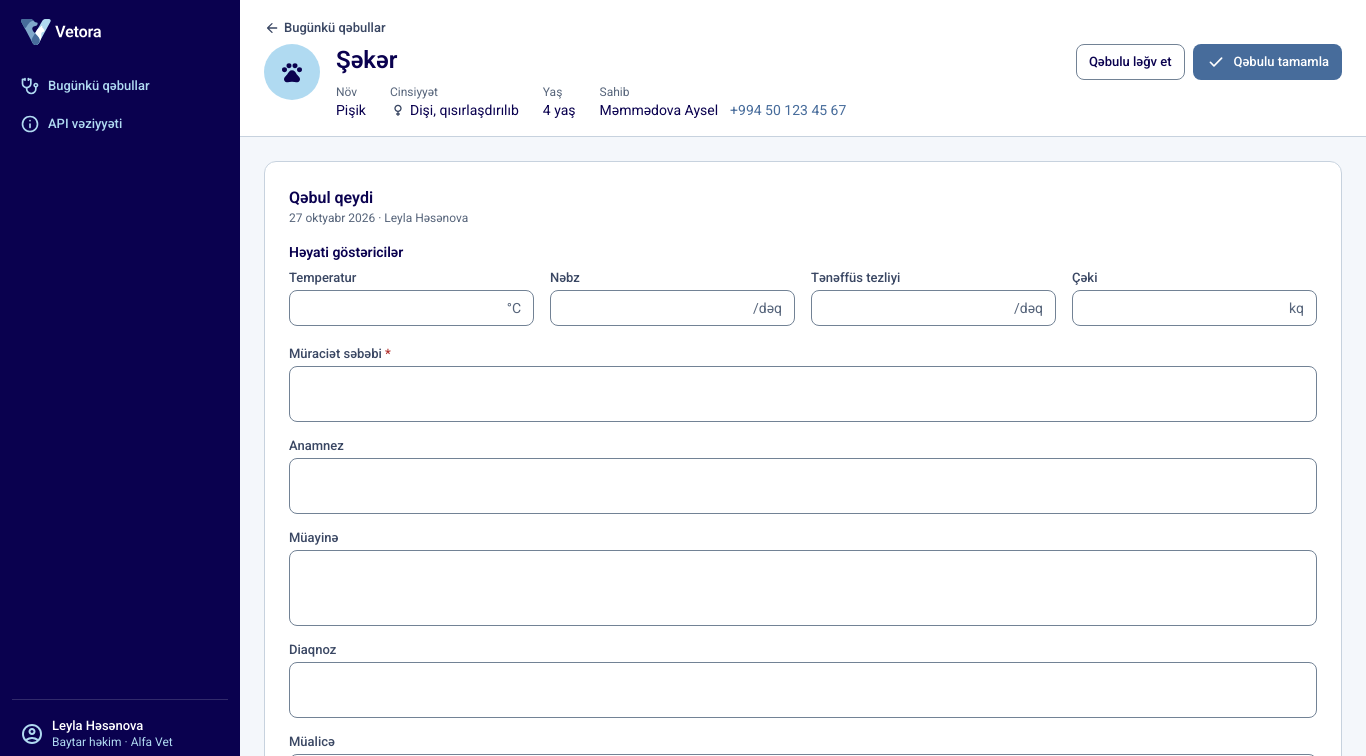
the draft note survives a dropped connection (#24, seam 3) › a save that found no connection is tried again every 30 seconds, without waiting for the browser to notice
This screenshot has width=1366, height=756.
Expected: the heading "Şəkər" is shown, x1=336 y1=44 x2=397 y2=76
Step 1. Type "Limping" into the text box labelled "Müraciət səbəbi" → (803, 394), box x1=290 y1=367 x2=1316 y2=421
Wait 34000 ms
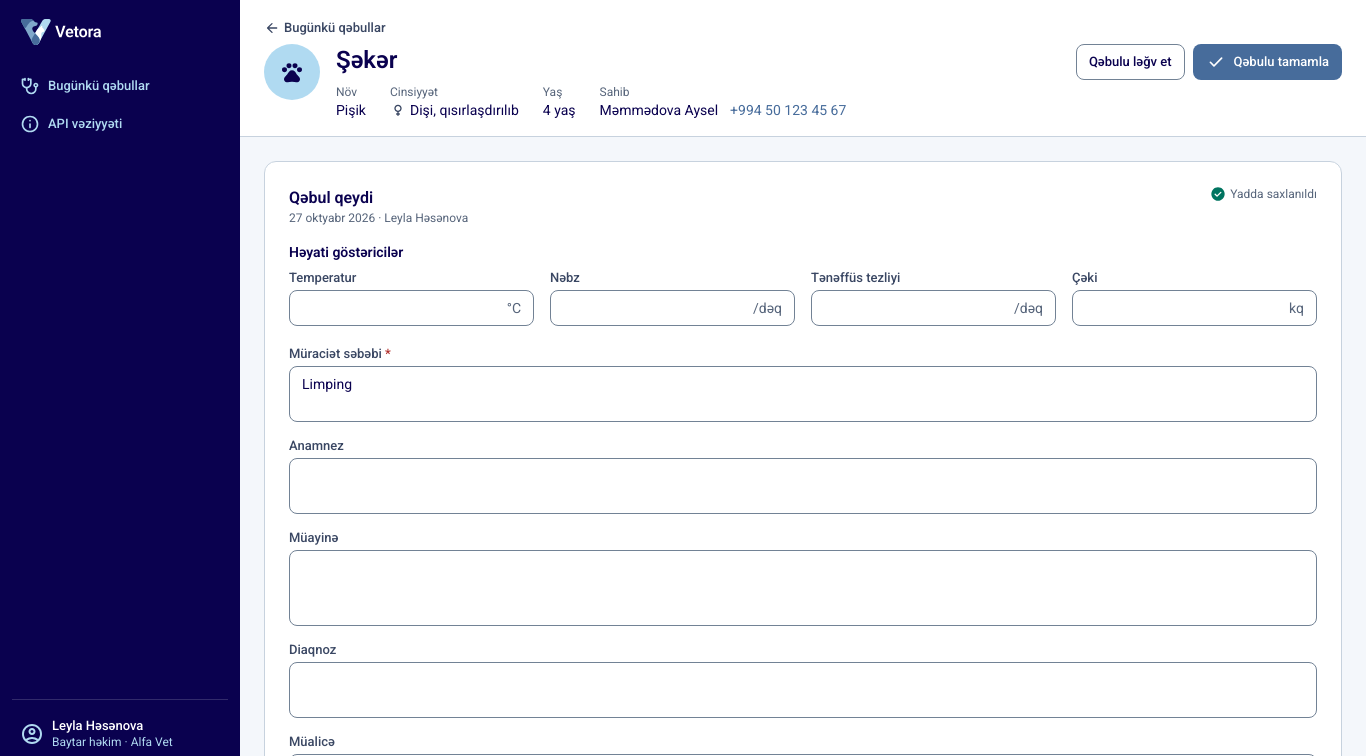
Expected: the text "Yadda saxlanıldı" is shown, x1=1230 y1=186 x2=1317 y2=202
